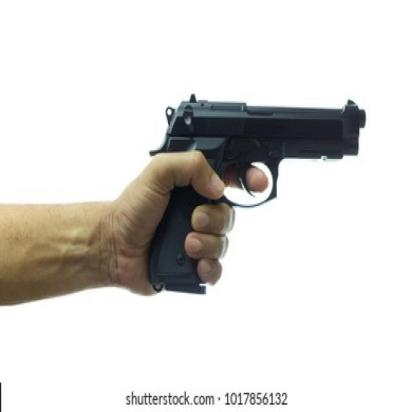Gun: (143, 93, 373, 302)
